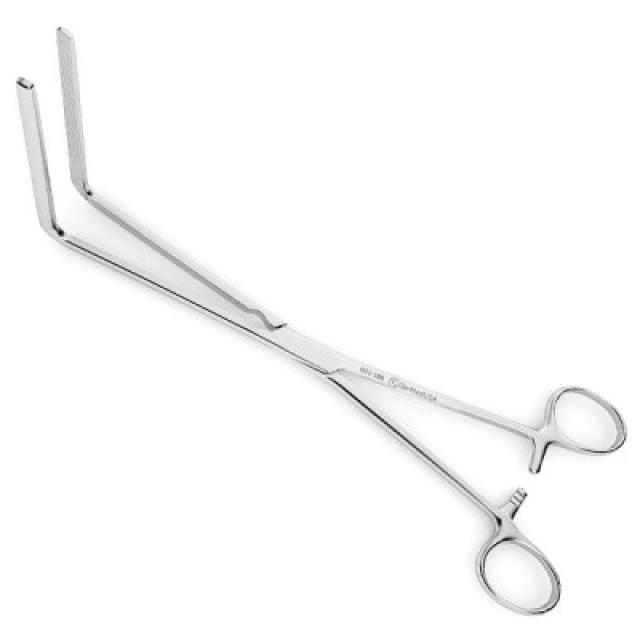Right Angle Colon Clamp: (8, 21, 626, 620)
